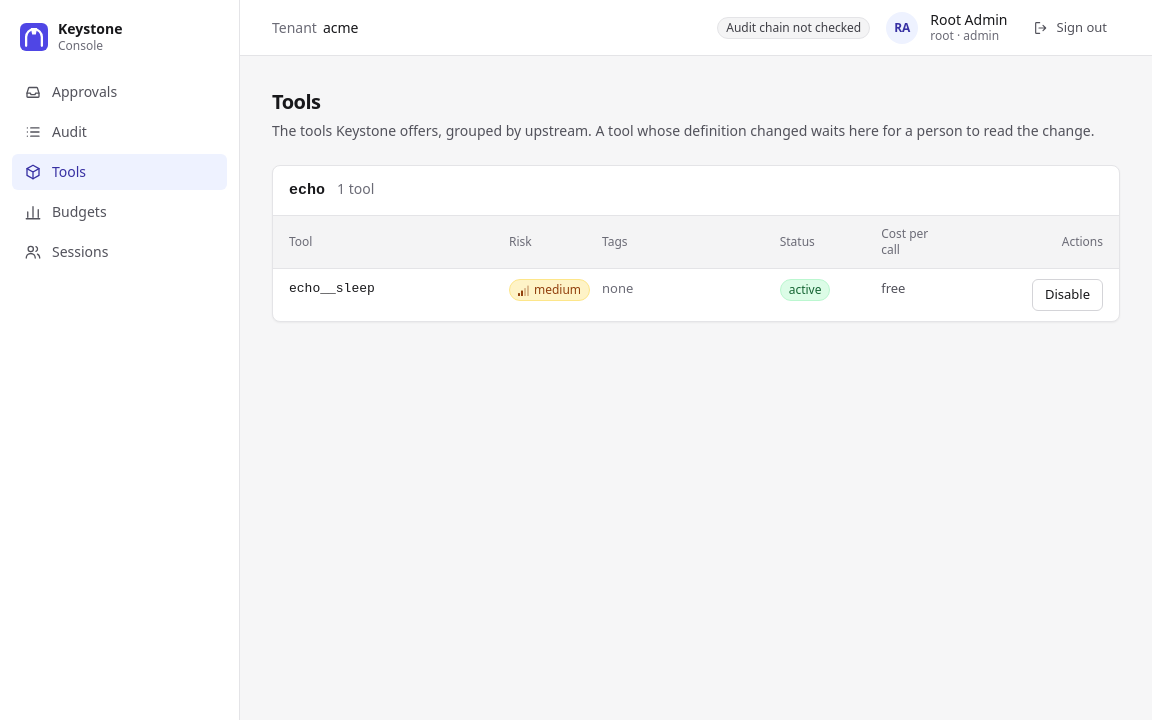
shows what the API refused when a tool cannot be switched
What coordinates should you click on to do the following:
click the button with aria-label "Disable echo__sleep"
I would click on:
 (1068, 294)
Its box is [1032,278,1103,310].
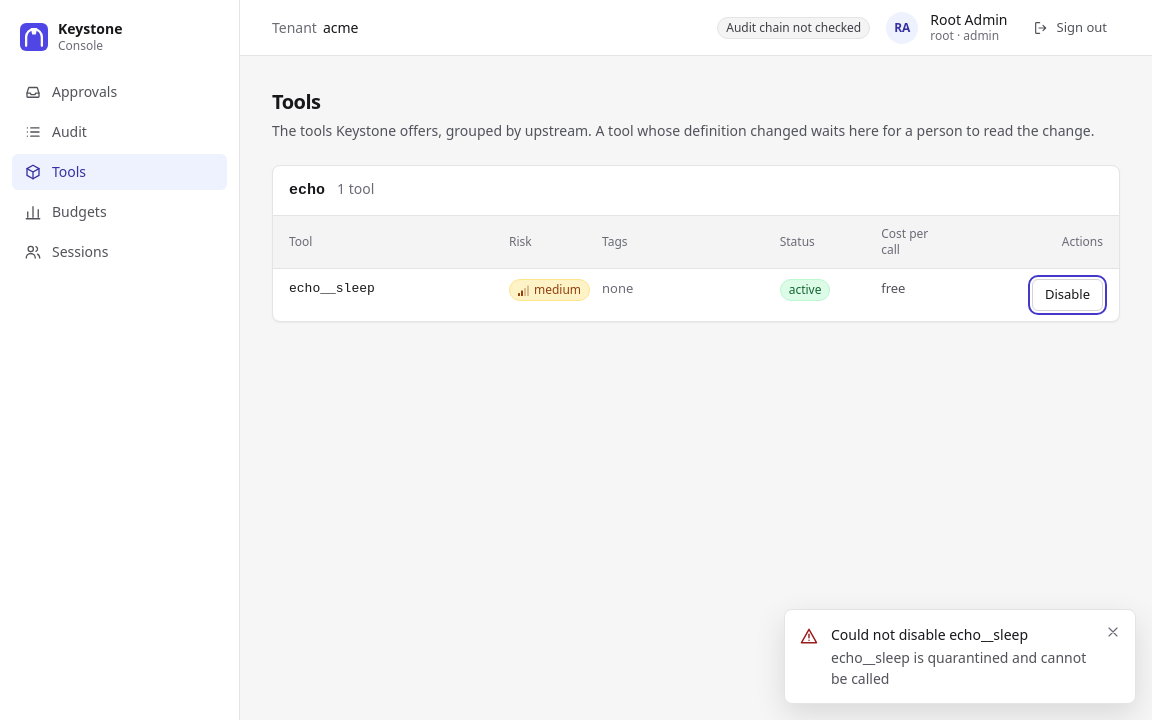
Expected: the text "Could not disable echo__sleep" is shown, [831,625,1028,644]
Expected: the text "echo__sleep is quarantined and cannot be called" is shown, [831,647,1093,689]
